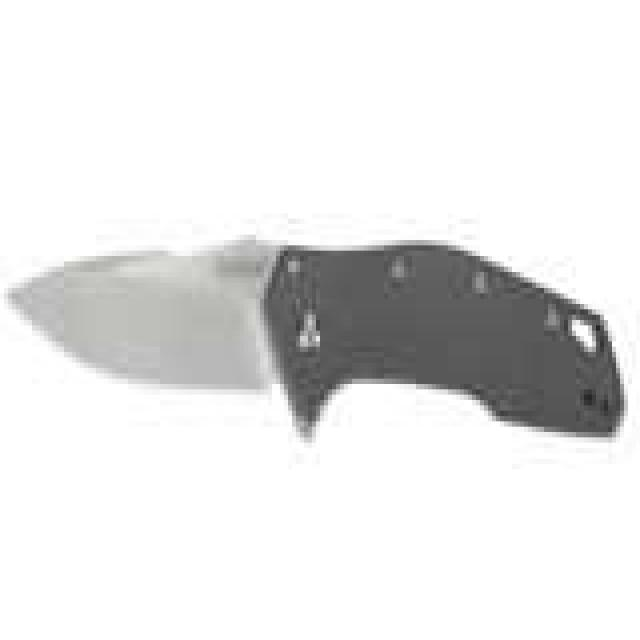Knife: (0, 238, 640, 455)
